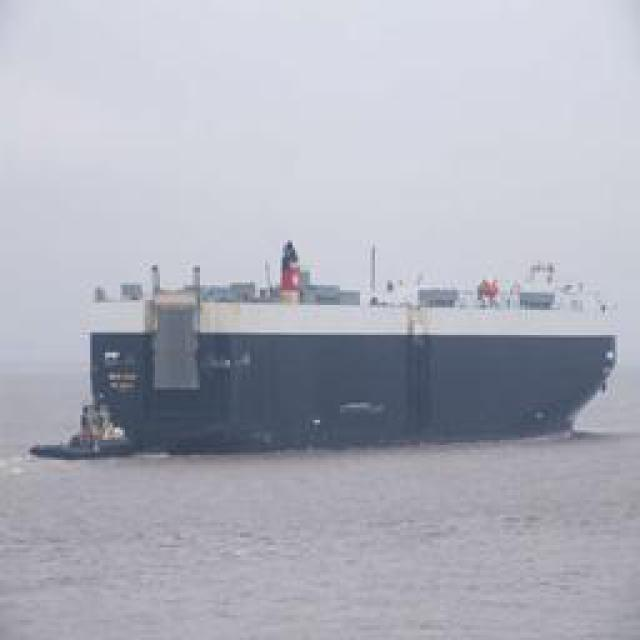Ship: (31, 243, 629, 458)
